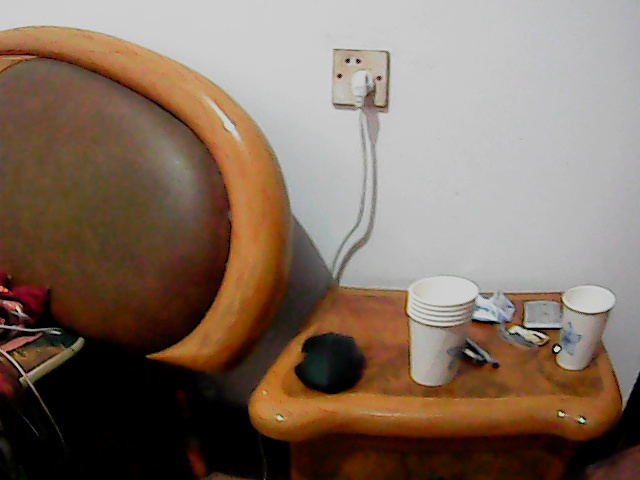cup: (406, 272, 479, 386)
mouse: (295, 331, 369, 391)
